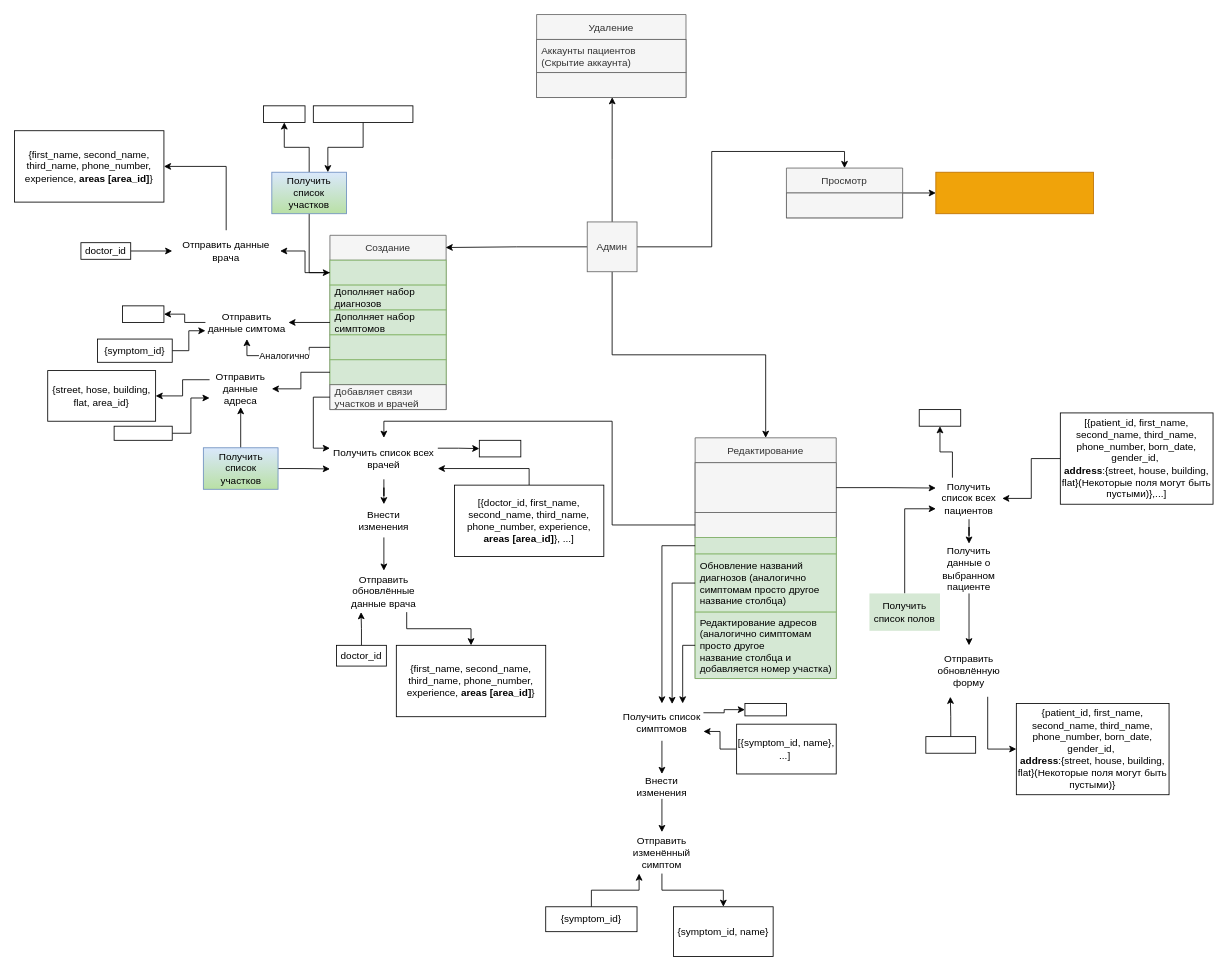
Some shapes in this 1228 by 971 pixel diagram are drawn without their labels. Each missing label, with the centre of its shape:
"address_id" goes at (142,432).
"patient_id" goes at (950,744).
"{area_list[area_id,...]}" goes at (362,113).
"{name}" goes at (143,313).
"Аккаунты врачей (Скрытие аккаунта)" goes at (611,85).
"Всё, что редактируется или добавляется" goes at (844,205).
"Добавляет аккаунты врачей" goes at (387,272).
"Добавляет новые адреса" goes at (387,372).
"Добавляет новые участки" goes at (387,347).
"Информация пациентов (если пациент не может сам обновить информацию о себе)" goes at (765,487).
"Меняет информацию врачей" goes at (765,524).
"Обновление симптомов" goes at (765,545).
"Расписывать не буду, если чего-то не будет хватать, то говорите" goes at (1014,192).
